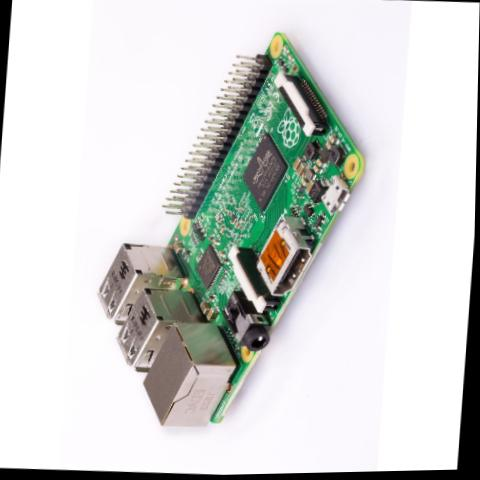Raspberry-Pi-2-Model-B: (81, 14, 376, 445)
